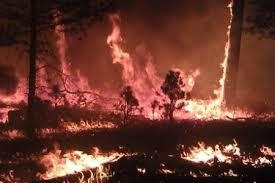fire: (176, 137, 275, 166)
